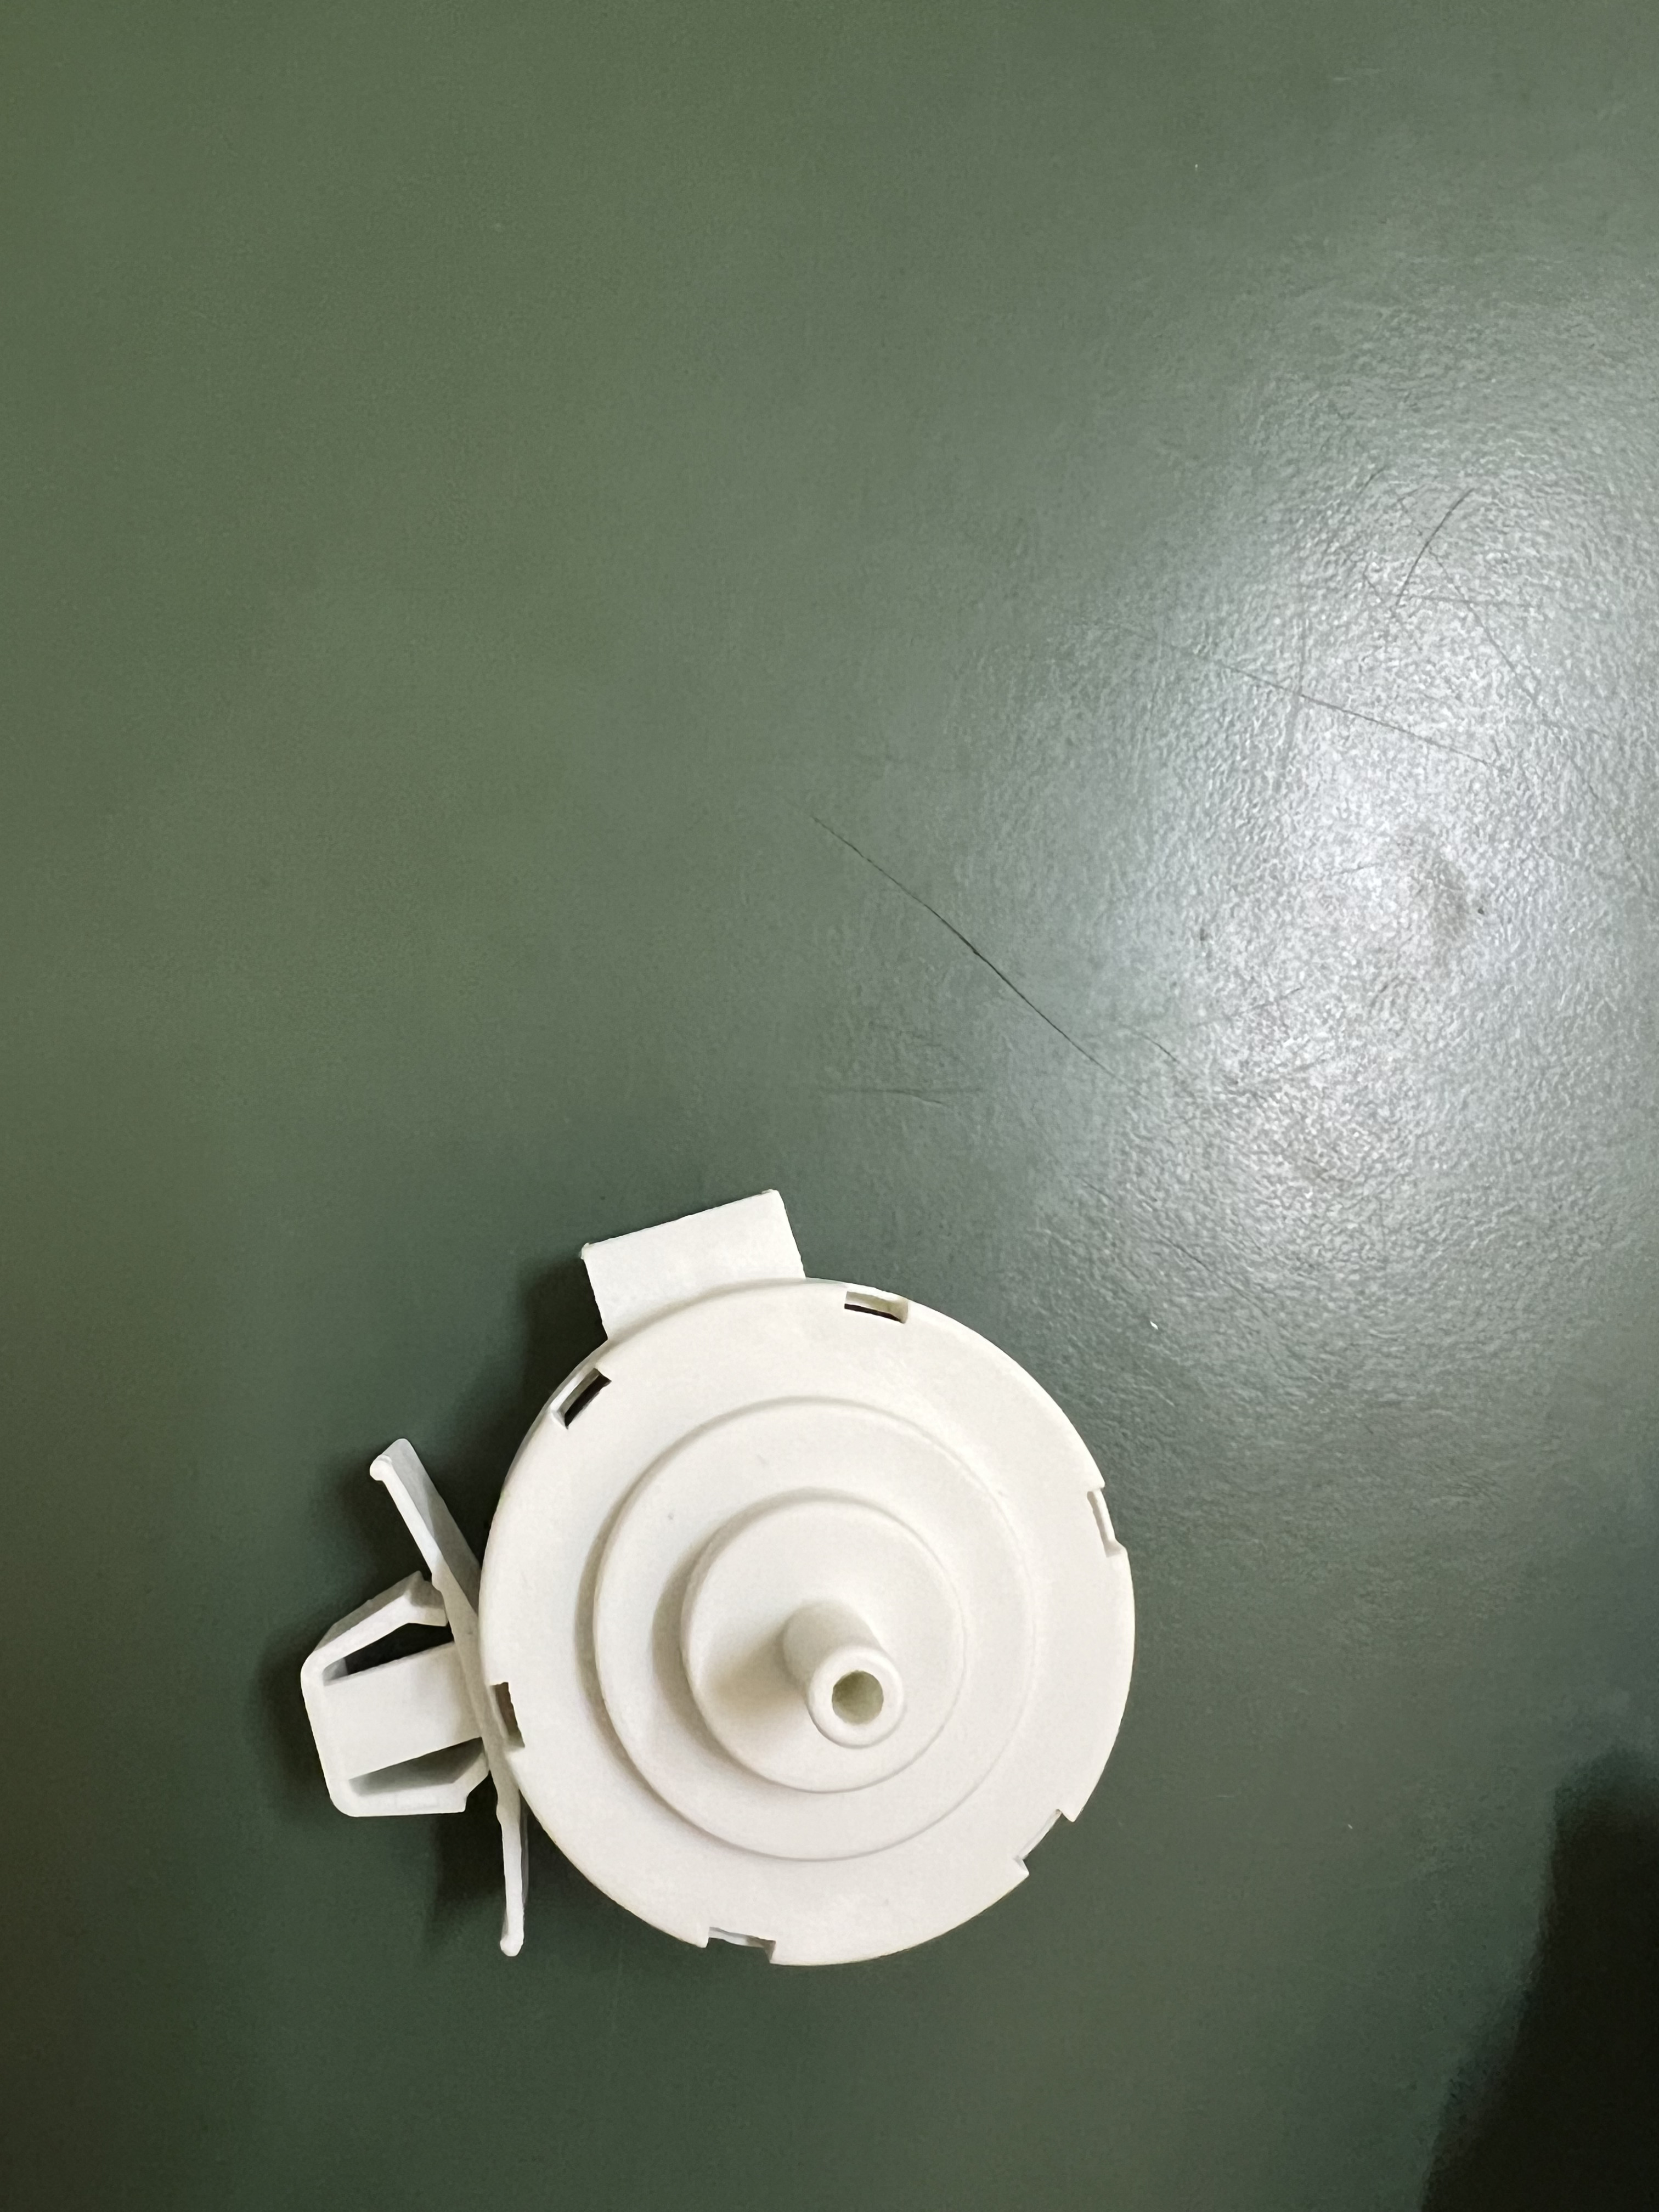pressure_switch_2: (223, 1177, 1164, 1987)
